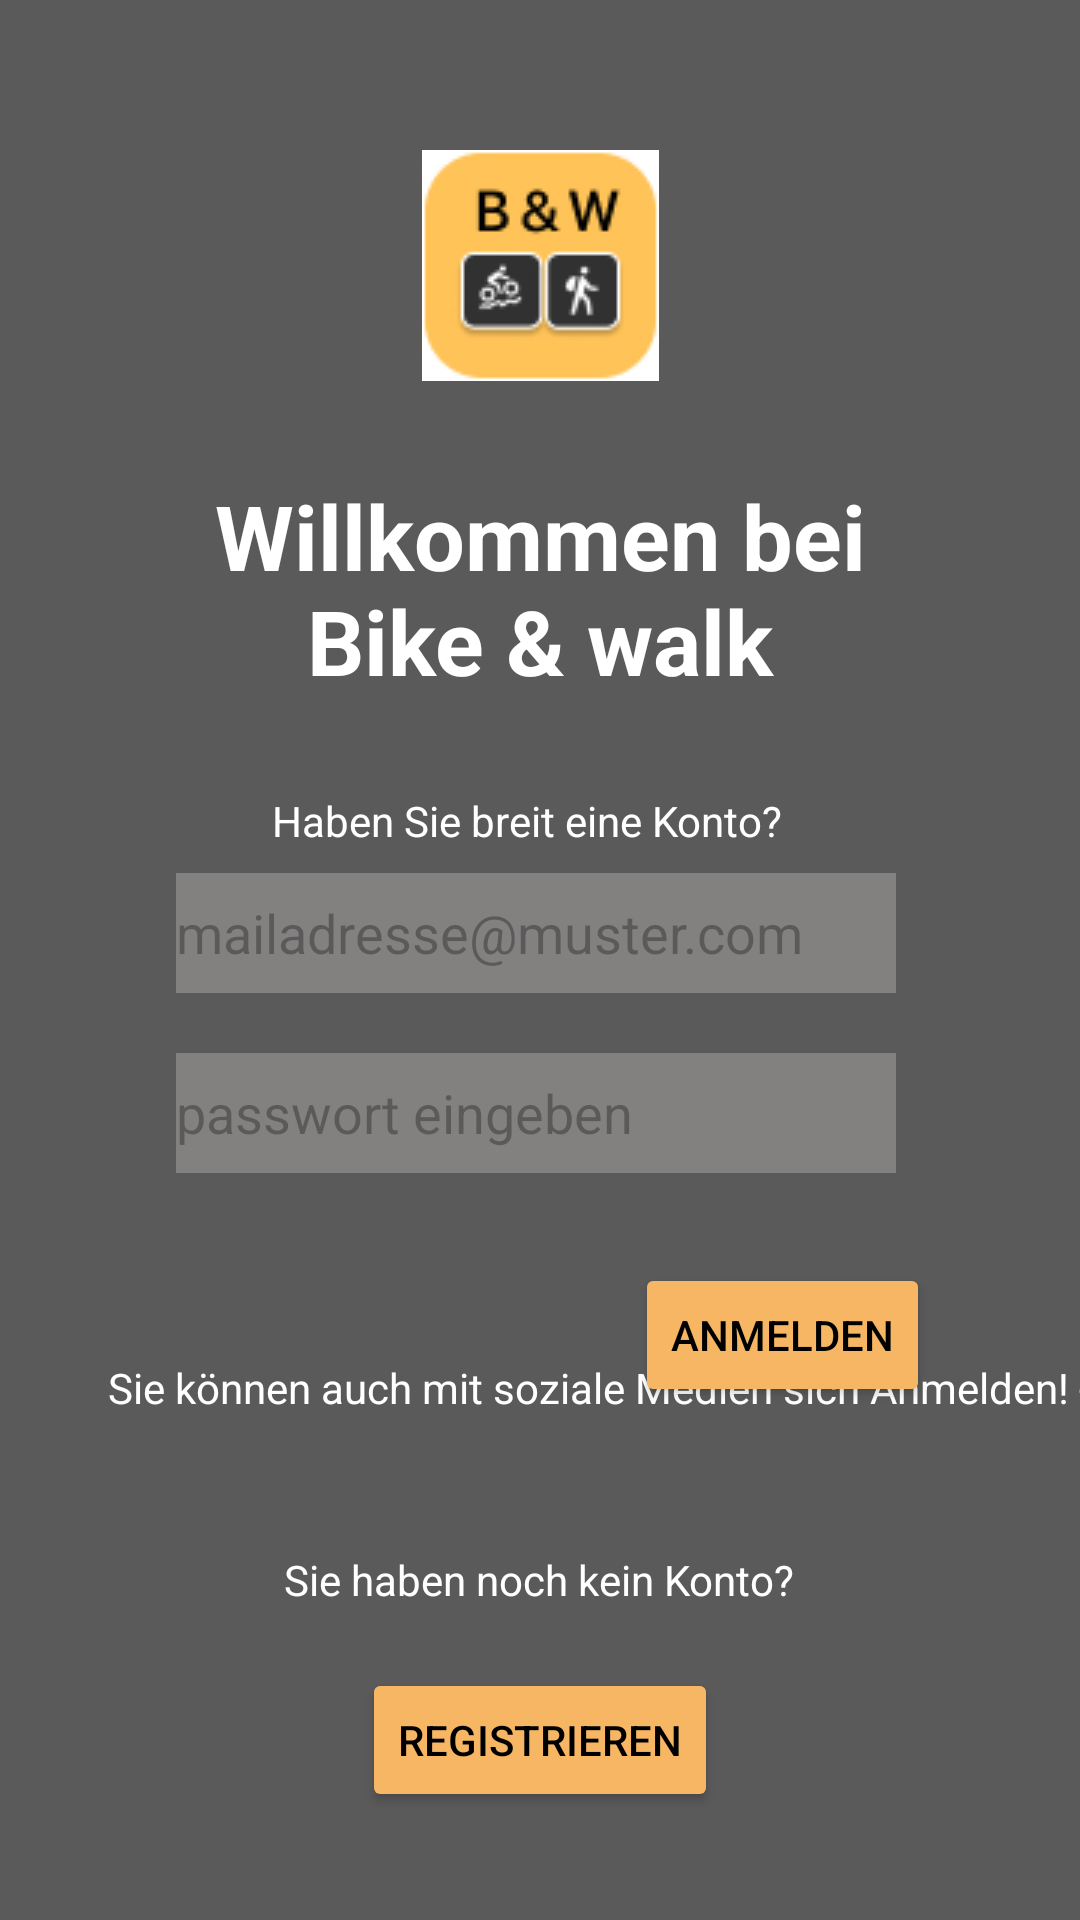

Icons on this 1080 × 1920 Android screen, each with the point to tap as point (x, y):
app: point (540, 265)
